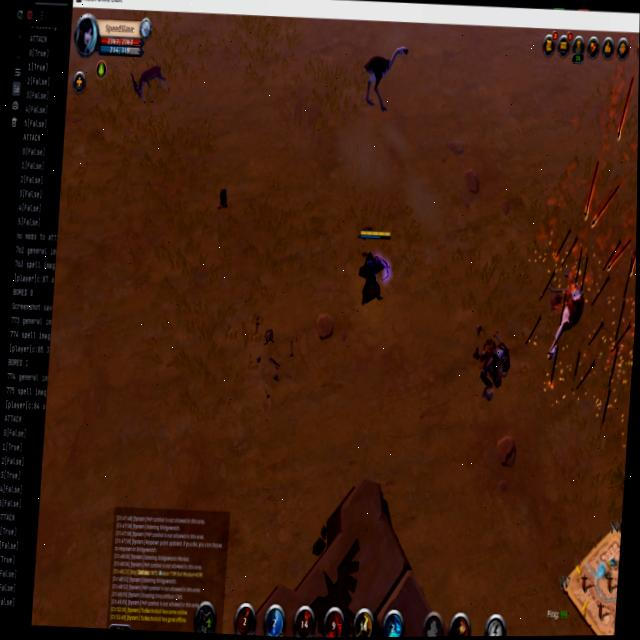mob: (542, 260, 590, 363)
ore: (355, 36, 413, 117), (124, 58, 176, 102), (474, 346, 505, 407), (628, 194, 637, 274)
red: (350, 225, 398, 311)
